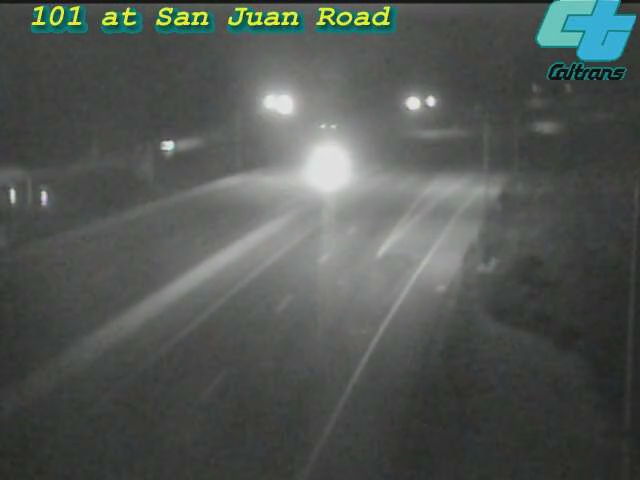vehicle: (284, 127, 364, 207)
